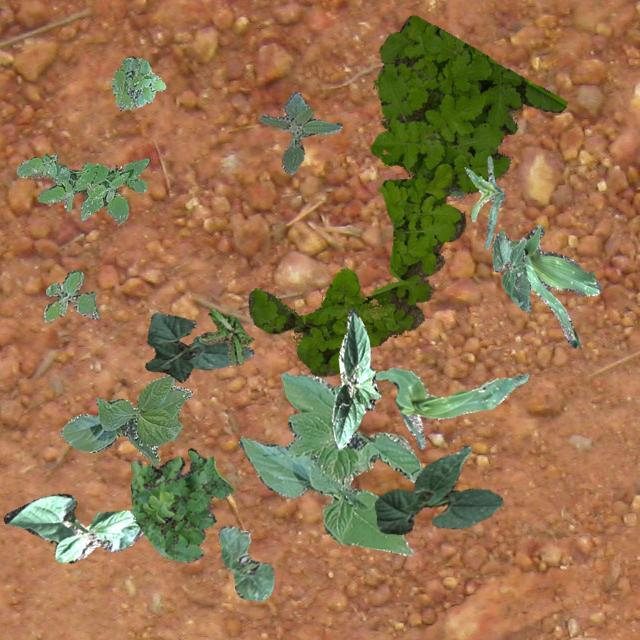crop: (238, 370, 422, 554), (374, 367, 528, 448), (58, 374, 192, 464), (374, 444, 502, 534), (509, 224, 601, 346), (2, 492, 142, 562), (144, 312, 252, 382), (330, 308, 380, 450), (218, 524, 272, 600), (464, 154, 504, 248), (492, 228, 530, 312)
weed: (248, 14, 566, 374), (130, 448, 232, 562), (15, 153, 150, 225), (258, 90, 342, 174), (110, 54, 164, 110), (198, 308, 252, 364), (42, 270, 98, 320), (448, 185, 463, 198)
